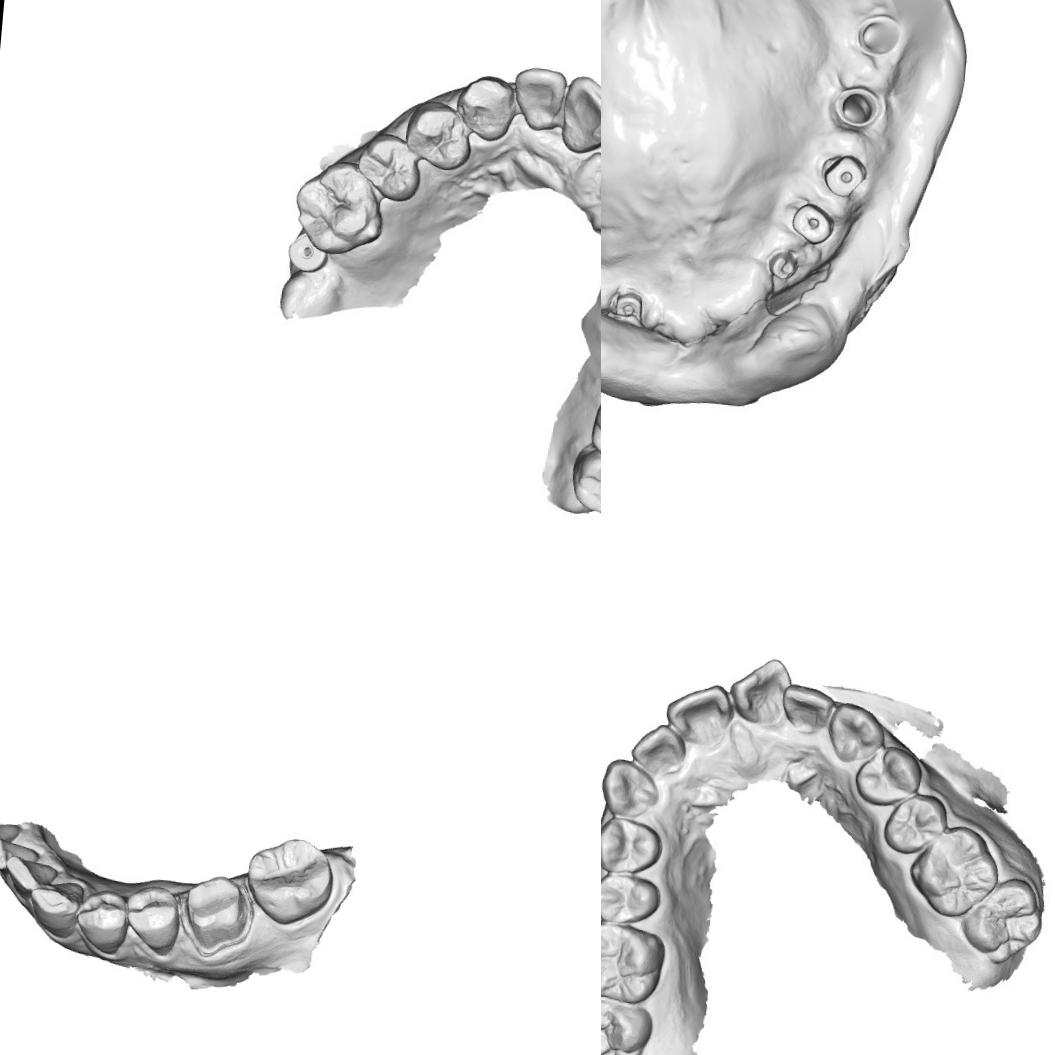canine: (601, 751, 665, 820), (24, 875, 86, 940), (458, 74, 518, 138), (824, 700, 882, 763)
crown: (174, 867, 254, 960)
implant: (833, 82, 886, 130), (820, 150, 866, 204), (788, 200, 835, 250), (604, 278, 649, 326)
incisor: (662, 678, 736, 748), (728, 654, 793, 726), (557, 73, 601, 159), (778, 674, 835, 736), (630, 723, 687, 778), (514, 67, 564, 124), (1, 853, 62, 896), (0, 834, 37, 879)
molar: (243, 827, 336, 928), (911, 824, 1001, 914), (960, 871, 1042, 968), (294, 166, 379, 254), (601, 919, 662, 1002), (601, 995, 651, 1055), (572, 445, 601, 521)
premolar: (881, 788, 950, 858), (122, 881, 184, 958), (855, 739, 920, 808), (72, 884, 132, 958), (360, 135, 423, 203), (406, 100, 465, 170), (601, 812, 663, 873), (601, 869, 661, 925)
